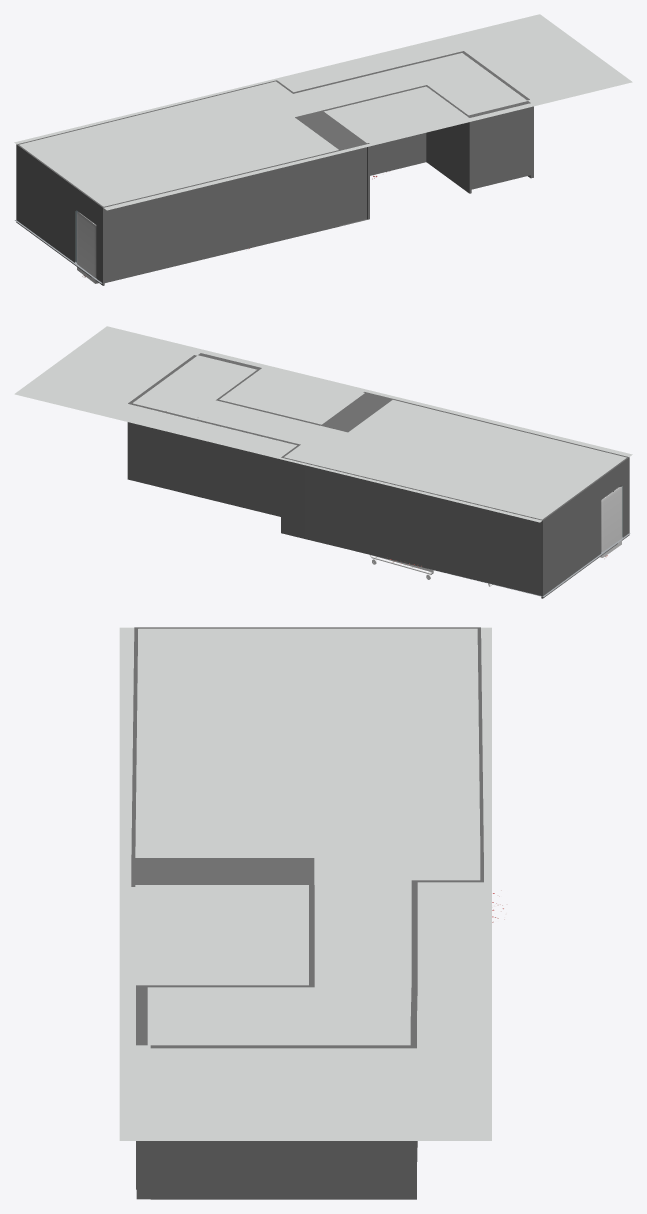
3 renders of one model, top to bottom at view 1: azimuth 30°, elevation 25°; view 2: azimuth 150°, elevation 25°; view 3: azimuth 270°, elevation 25°, orthographic. The views are drawn at different scales.
Parts seen in each view (by area): view 1: Paredes, techo.001, techo, PUERTA ACCESO, PUERTA ACCESO.001; view 2: Paredes, techo.001, techo, PUERTA ACCESO; view 3: techo.001, techo, Paredes.
Boxes of the visible parts, x1=… form: Paredes: x1=16, y1=51, x2=533, y2=285; techo.001: x1=276, y1=14, x2=632, y2=145; techo: x1=14, y1=78, x2=370, y2=210; PUERTA ACCESO: x1=77, y1=212, x2=98, y2=283; PUERTA ACCESO.001: x1=77, y1=213, x2=93, y2=281; Paredes: x1=127, y1=353, x2=629, y2=598; techo.001: x1=14, y1=326, x2=368, y2=458; techo: x1=277, y1=390, x2=632, y2=522; PUERTA ACCESO: x1=600, y1=486, x2=621, y2=557; techo.001: x1=119, y1=883, x2=491, y2=1140; techo: x1=119, y1=627, x2=491, y2=883; Paredes: x1=131, y1=627, x2=483, y2=1199.
Bounding box in the file's own units: 1004 × 181 × 336.
110 materials, 57 textured.
